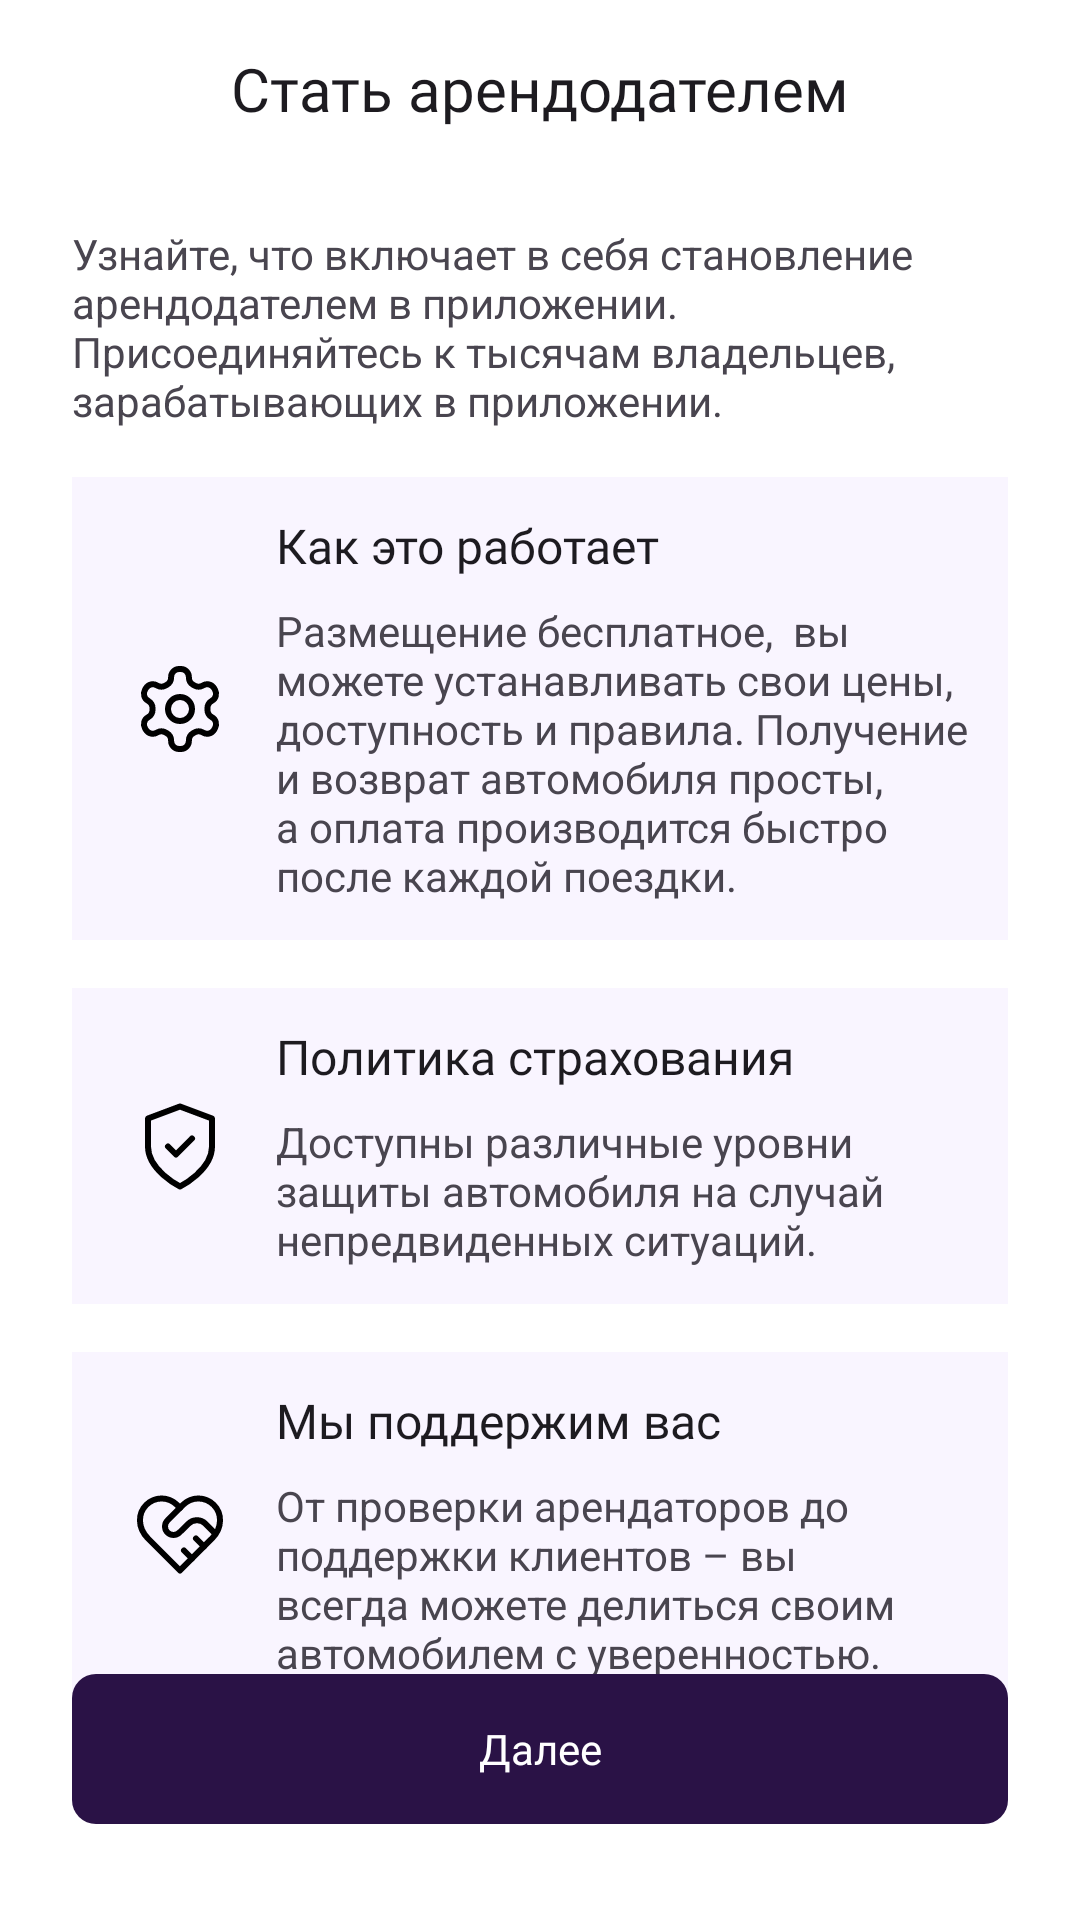

Screen size 1080 × 1920. Icon name, then its center in pixels as (x,y):
heart handshake: (180,1534)
settings rent: (180,709)
shield check: (180,1146)
